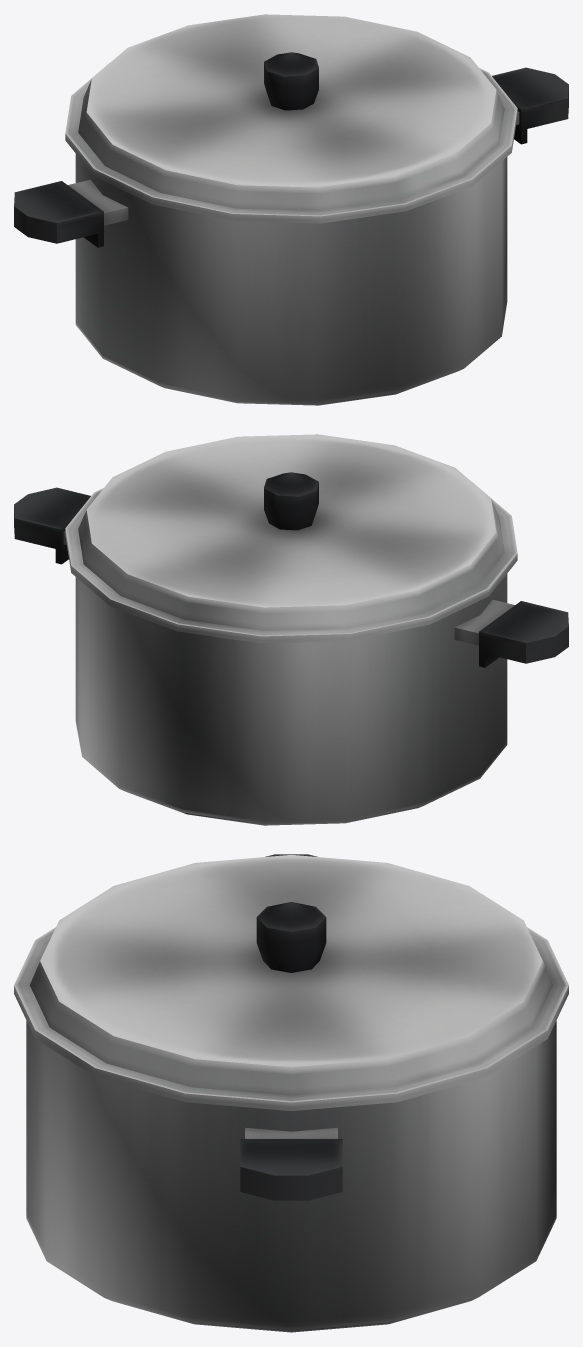
The model's file is KR_Pot_01_01.fbx.
The picture shows the model from 3 angles, top to bottom: view 1: azimuth 30°, elevation 25°; view 2: azimuth 150°, elevation 25°; view 3: azimuth 270°, elevation 25°; orthographic projection. The views are drawn at different scales.
Visible parts, largest first — view 1: pot01, lid01; view 2: pot01, lid01; view 3: pot01, lid01.
Part boxes in pixels (left/top/right/bottom): pot01: left=14, top=67, right=568, bottom=405; lid01: left=65, top=14, right=517, bottom=223; pot01: left=14, top=487, right=568, bottom=825; lid01: left=65, top=434, right=517, bottom=643; pot01: left=26, top=854, right=556, bottom=1332; lid01: left=14, top=855, right=568, bottom=1110.
Size of the model in its own units: 32.4 by 15.22 by 23.66.
